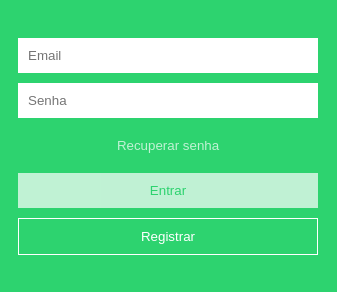
Scenario: Login › given email › when empty, then show required error message
Type "anyValue" into the field with test id "email" at [168, 55], box [18, 38, 318, 72]
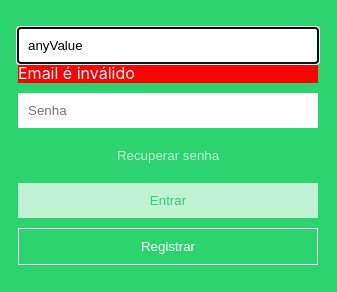
Clear the field with test id "email" at [168, 45], box [18, 28, 318, 62]
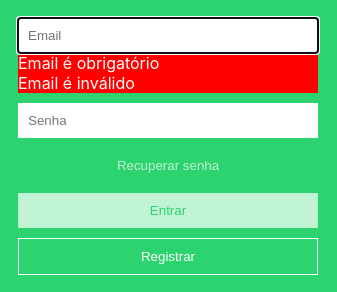
expect the text "Email é obrigatório" is shown: met, box [18, 52, 318, 72]
